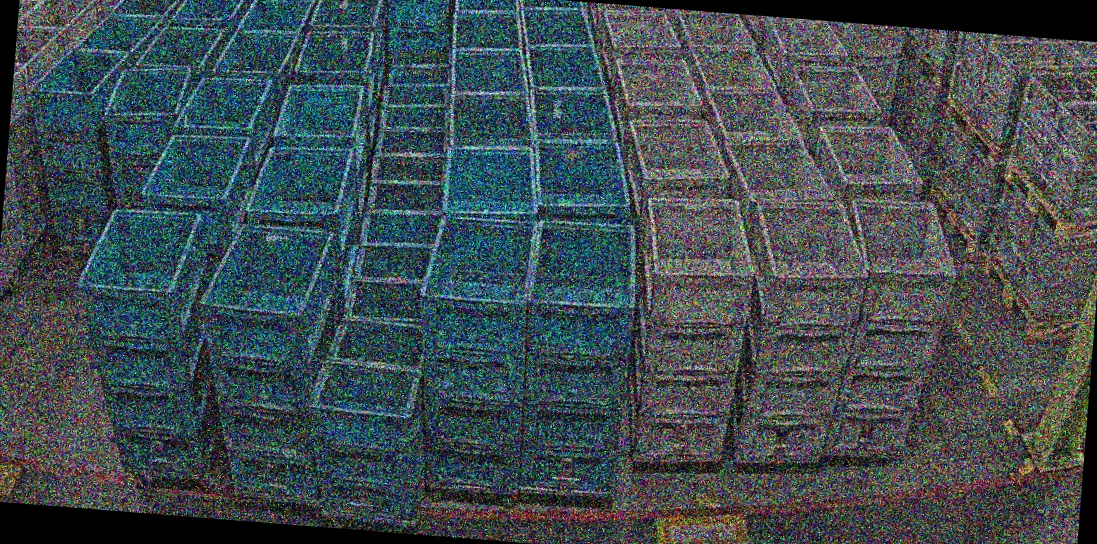4G: (725, 192, 874, 468), (820, 193, 964, 463), (623, 190, 762, 468)
B4: (63, 202, 236, 478), (184, 220, 350, 503), (403, 212, 540, 493), (510, 216, 642, 497), (94, 59, 194, 214)
B8: (298, 313, 437, 524)
